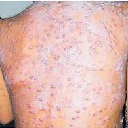Chickenpox: (37, 7, 91, 69), (22, 82, 64, 122)
